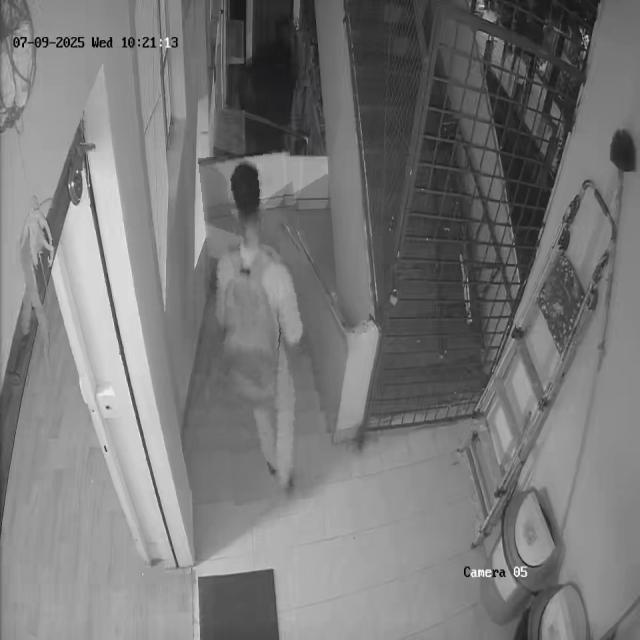person: (207, 151, 317, 505)
